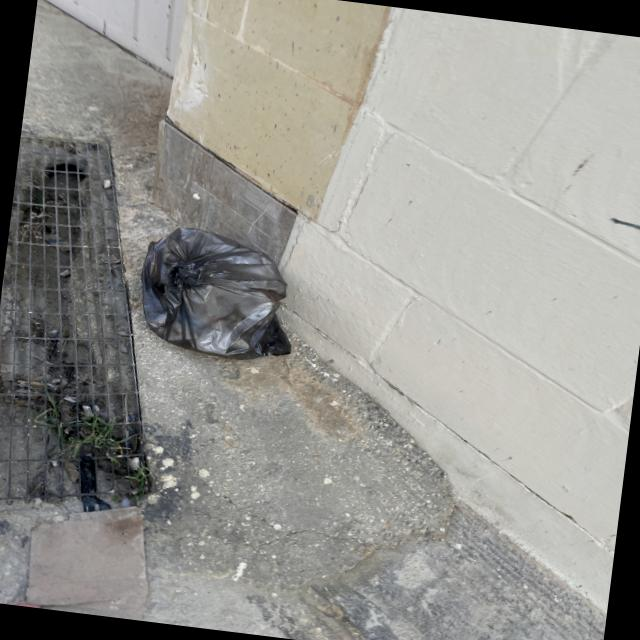black_bag: (126, 217, 312, 369)
